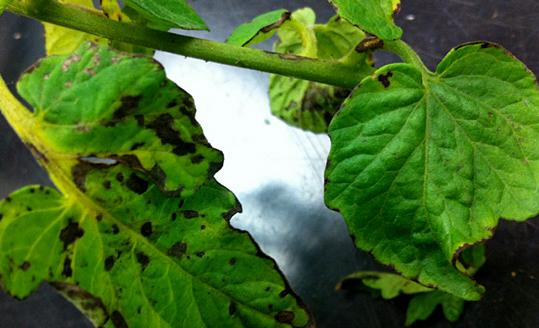Tomato leaf bacterial spot: (0, 50, 321, 328), (312, 46, 535, 328)
